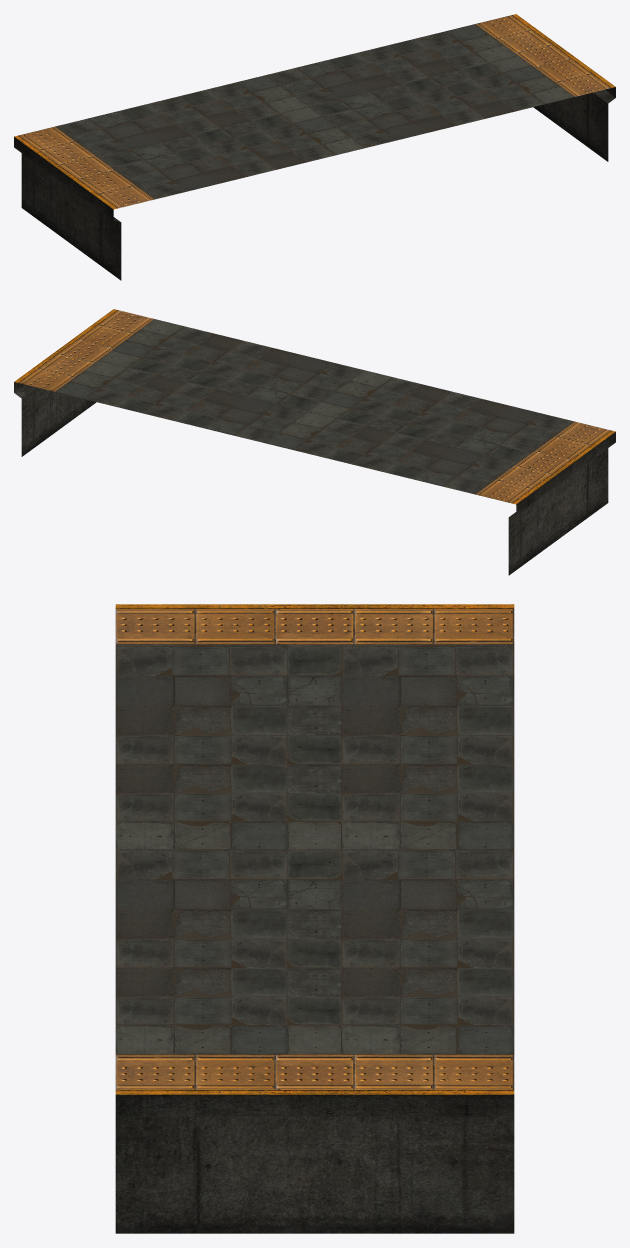
File: PlatformFloorBigB.fbx
3 views of the same model, one above another, from view 1: azimuth 30°, elevation 25°; view 2: azimuth 150°, elevation 25°; view 3: azimuth 270°, elevation 25° (orthographic). The views are drawn at different scales.
Visible parts, largest first — view 1: PlatformFloorBigB; view 2: PlatformFloorBigB; view 3: PlatformFloorBigB.
Part boxes in pixels (left/top/right/bottom): PlatformFloorBigB: left=14, top=14, right=615, bottom=280; PlatformFloorBigB: left=14, top=309, right=615, bottom=575; PlatformFloorBigB: left=115, top=604, right=514, bottom=1233.
Size of the model in its own units: 1092 by 152 by 375.
